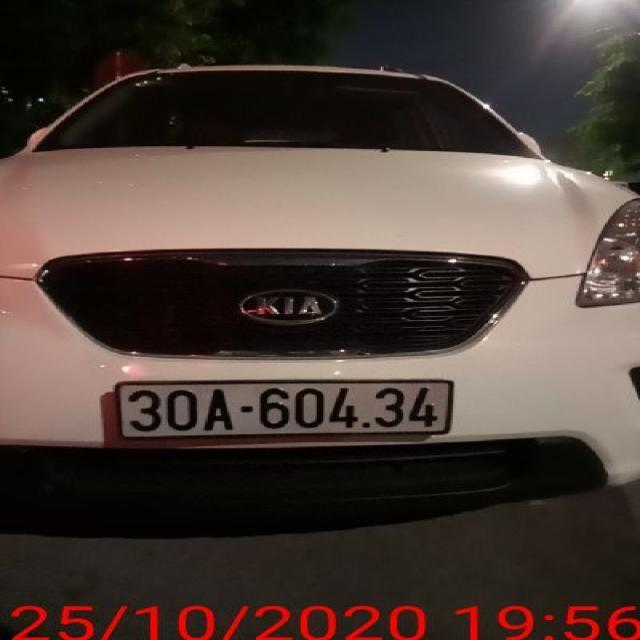bien_so_oto: (114, 378, 456, 441)
